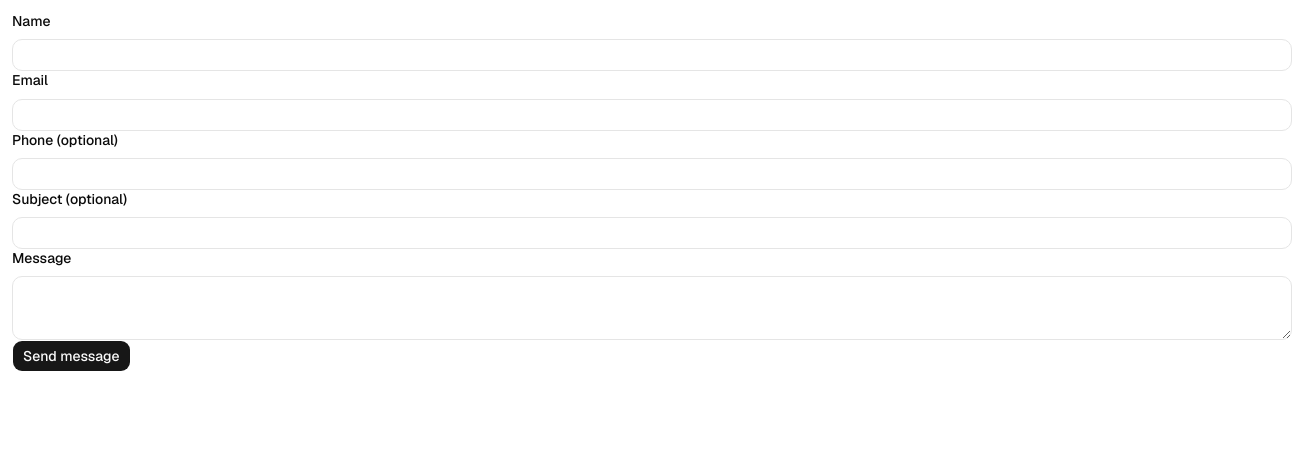
Test: ContactForm › keeps its honeypot out of the accessible form and validates fields
What coordinates should you click on to do the following:
click the button "Send message"
I would click on:
 (71, 356)
Its box is top-left (12, 340), bottom-right (130, 372).
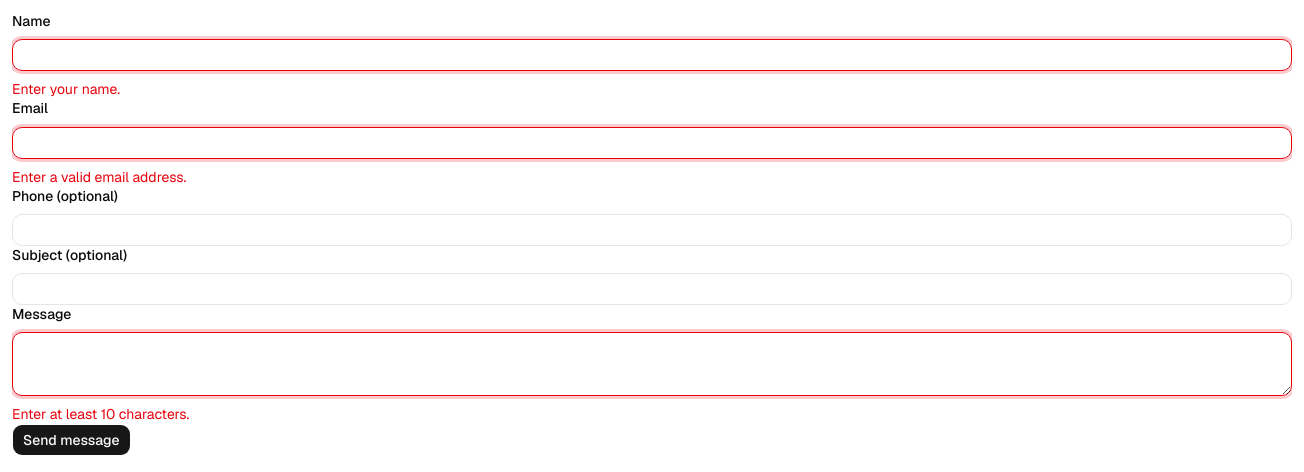
Expected: the text "Enter your name." is shown, top-left (12, 80), bottom-right (120, 98)
Expected: the text "Enter a valid email address." is shown, top-left (12, 168), bottom-right (186, 186)
Expected: the text "Enter at least 10 characters." is shown, top-left (12, 405), bottom-right (189, 423)
